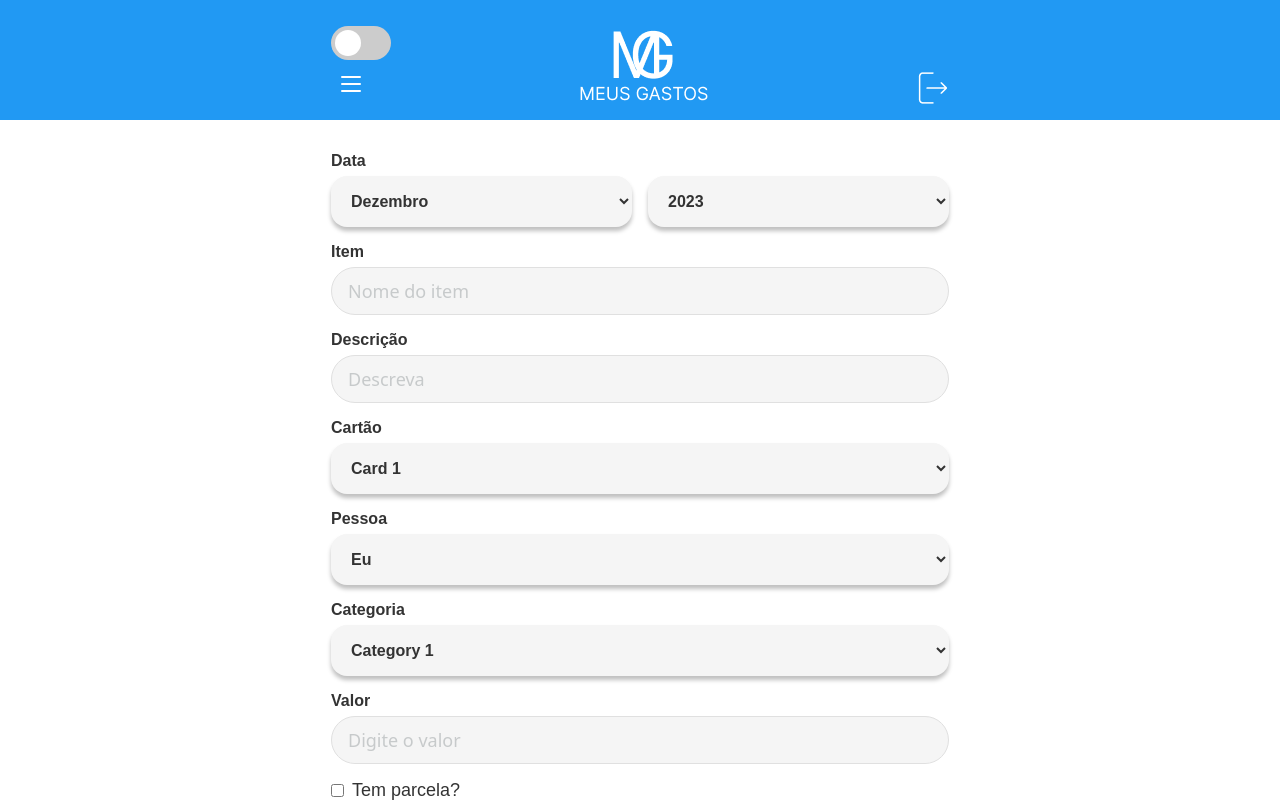
Test case: New bill component with data › should show the installment quantity input when selecting the checkbox
The image size is (1280, 800).
Click the checkbox with test id "checkbox-installment".
click(338, 790)  # box [331, 784, 344, 797]
(page scrolled)
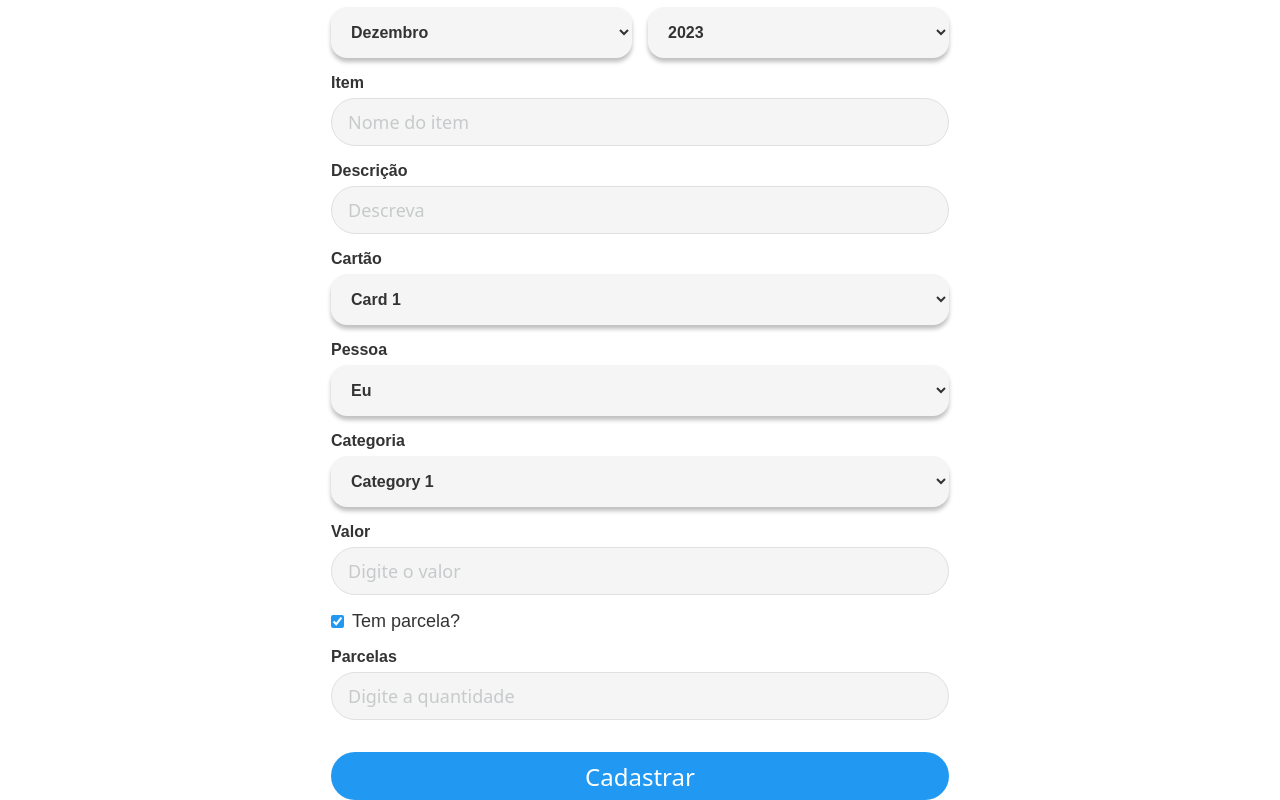
Expected: the number field with test id "installment-input" is shown, [331, 672, 949, 720]
